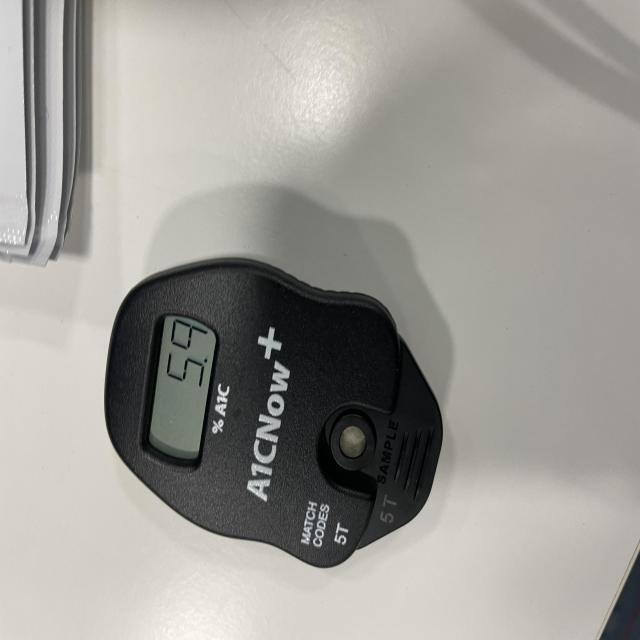hba1c: (103, 256, 445, 571)
